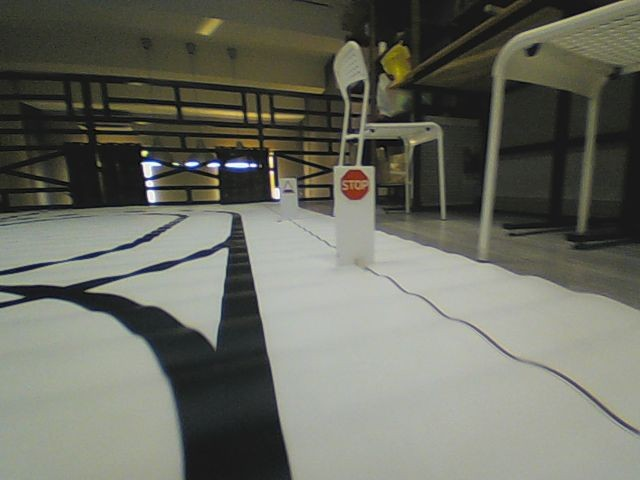Stop: (338, 167, 370, 201)
